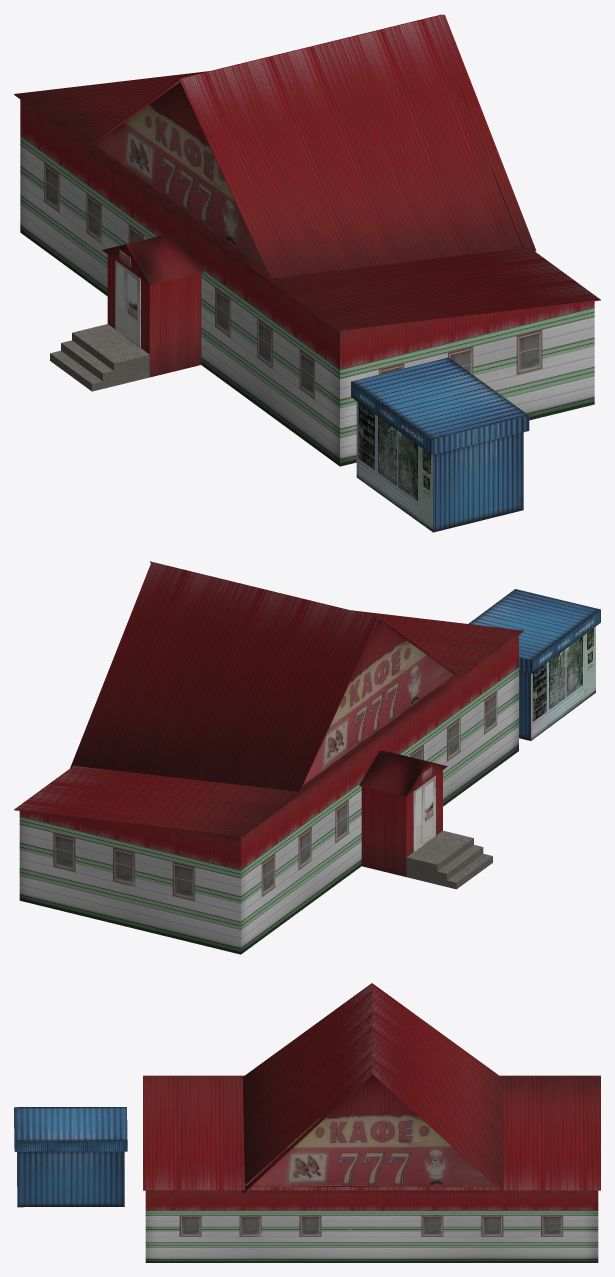
Rendered from r402_kafe_777.FBX.
3 views of the same model, one above another, from view 1: azimuth 30°, elevation 25°; view 2: azimuth 150°, elevation 25°; view 3: azimuth 270°, elevation 25° (orthographic). The views are drawn at different scales.
Parts seen in each view (by area): view 1: r402_kafe_777; view 2: r402_kafe_777; view 3: r402_kafe_777.
Part boxes in pixels (<box>): r402_kafe_777: <box>14,14,600,532</box>; r402_kafe_777: <box>14,561,600,954</box>; r402_kafe_777: <box>14,983,600,1262</box>.
Bounding box in the file's own units: 10.28 × 19.75 × 7.12.
